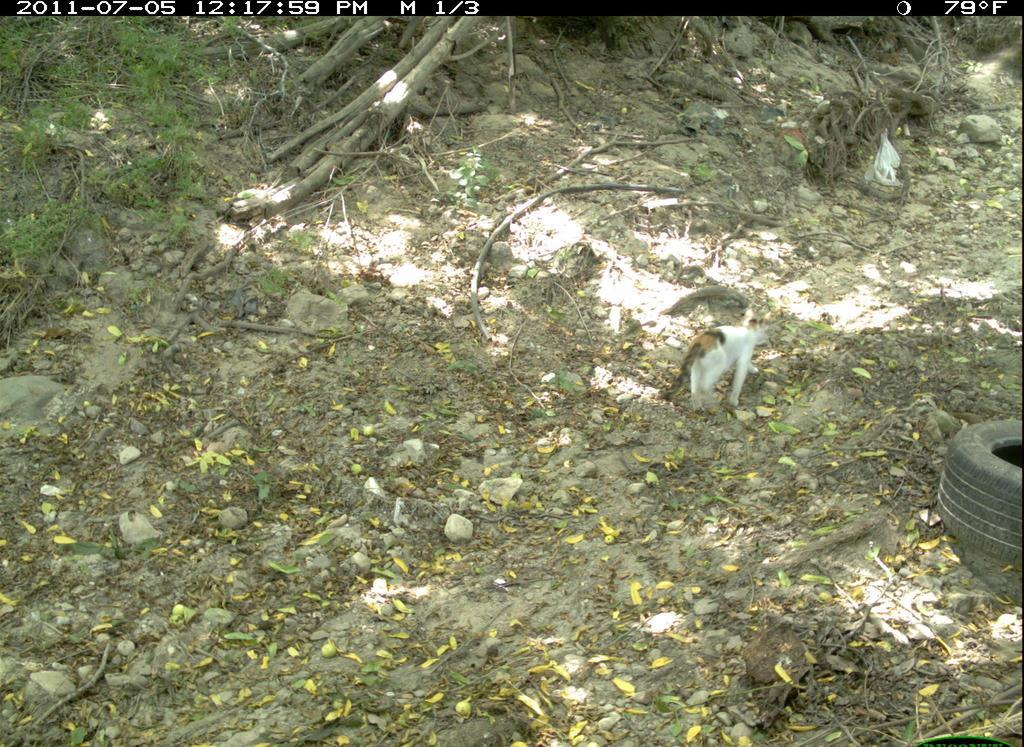cat: (657, 303, 780, 414)
